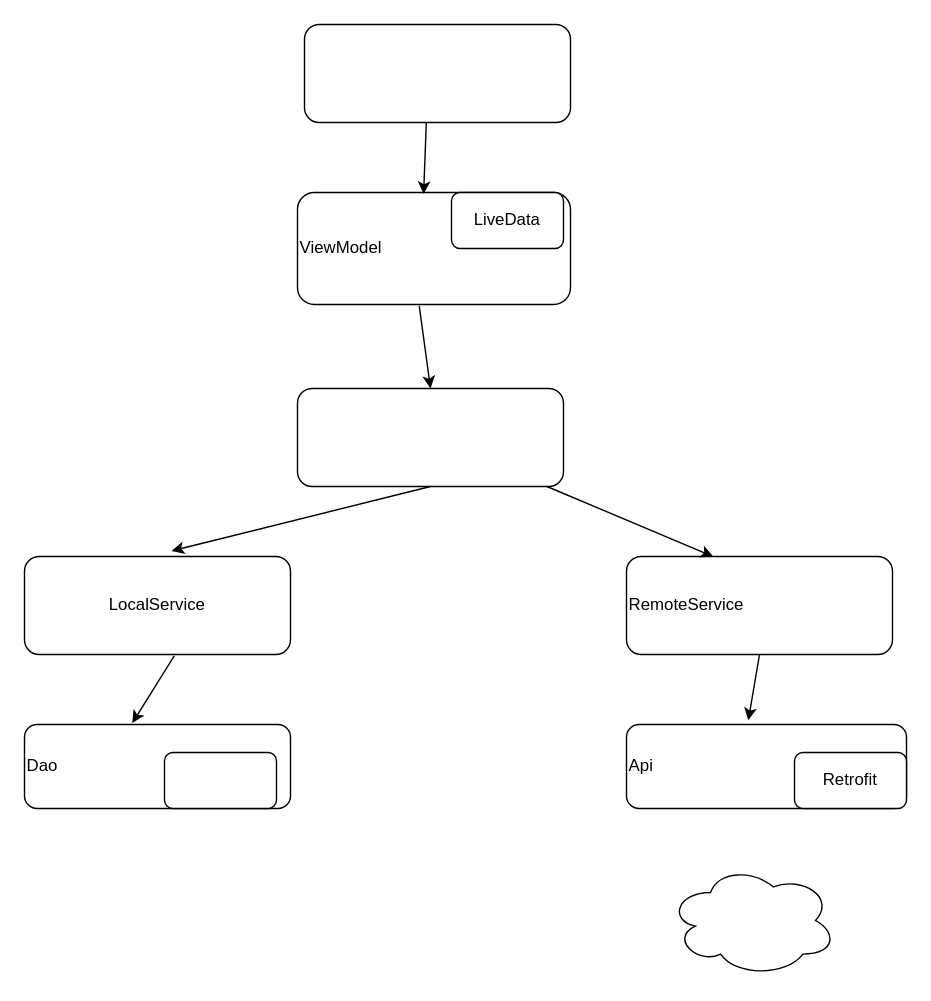
The diagram is 931 pixels wide and 1001 high, and some of its shapes have lost their labels. Here are the shapes that lost their labels. From the top down, the centre of each, then its label:
the point at 436,72: Activity / Fragment
the point at 430,436: Repository
the point at 219,779: Room
the point at 751,919: webservice
